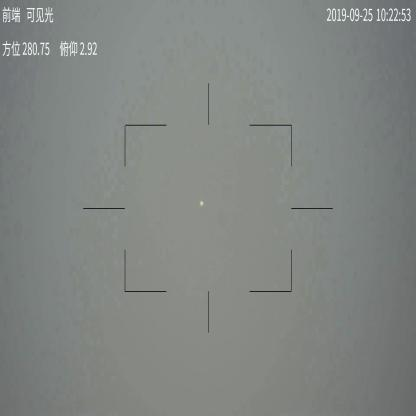uav: (199, 200, 206, 209)
